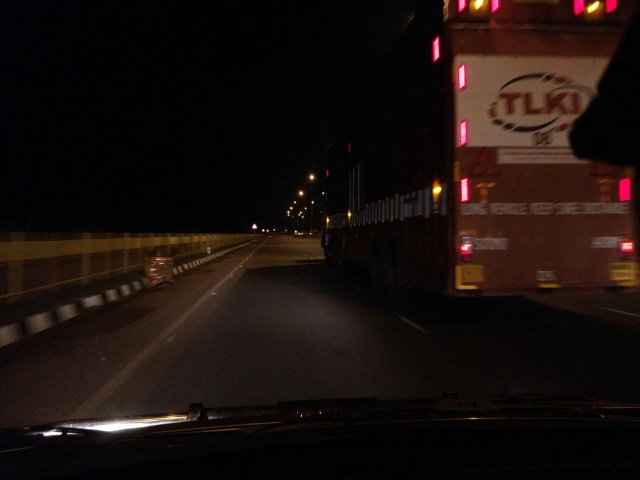bus: (309, 1, 640, 322)
